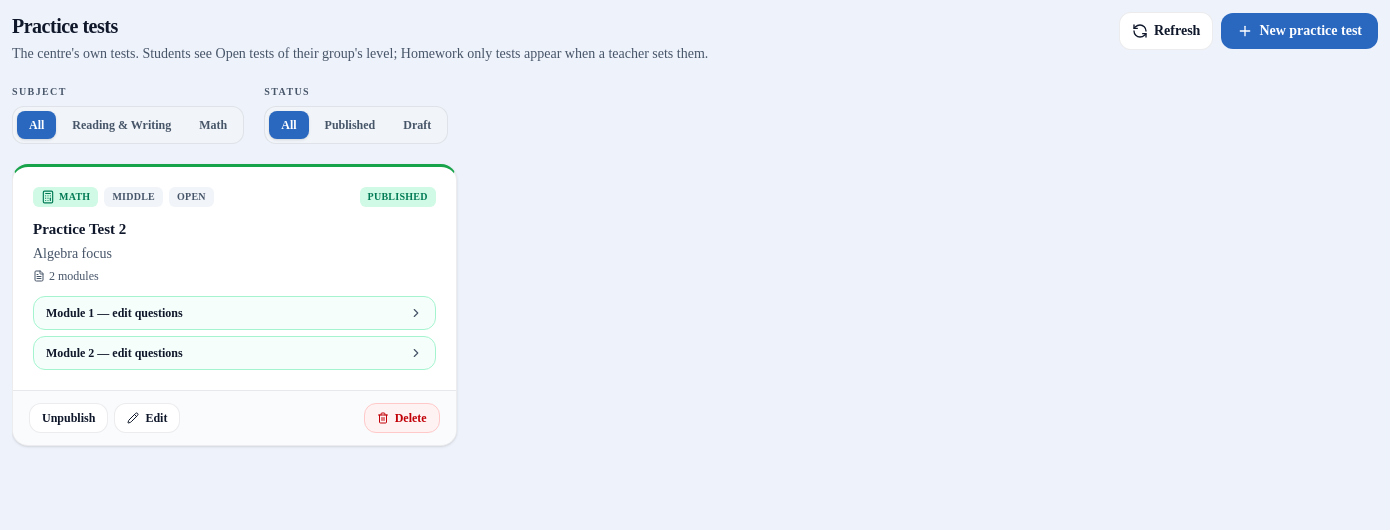
Test: /builder/practice-tests › shows the server's reason when a test with attempts cannot be deleted
Step 1. Click the button "Delete" → (402, 418), box 364,403 -> 440,433
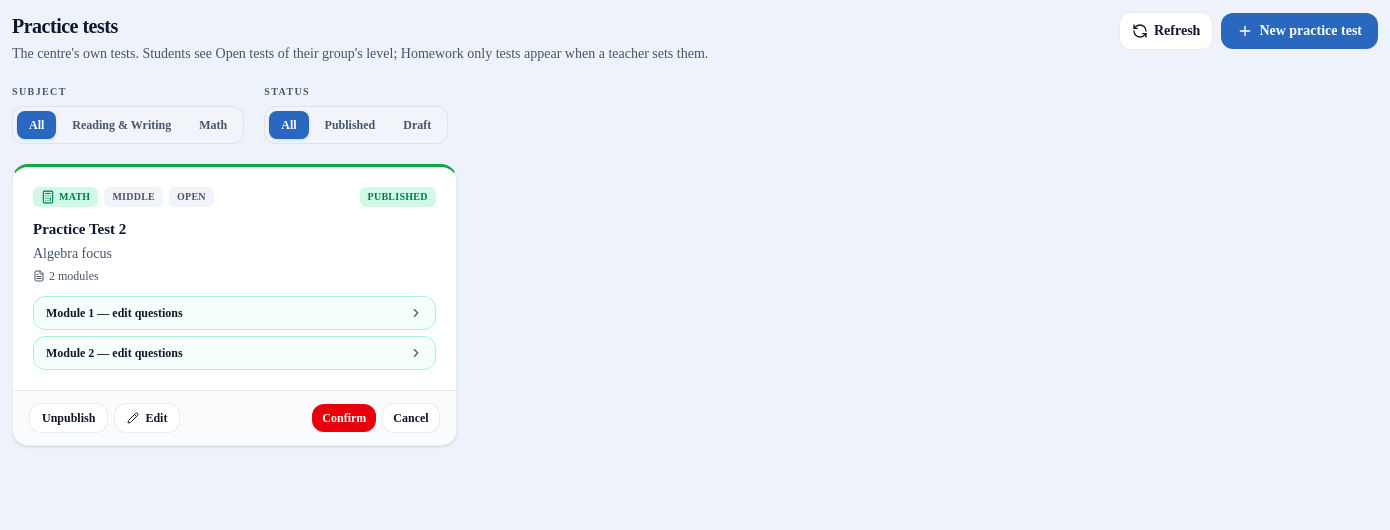
Step 2. Click the button "Confirm" → (344, 418), box 312,404 -> 376,432
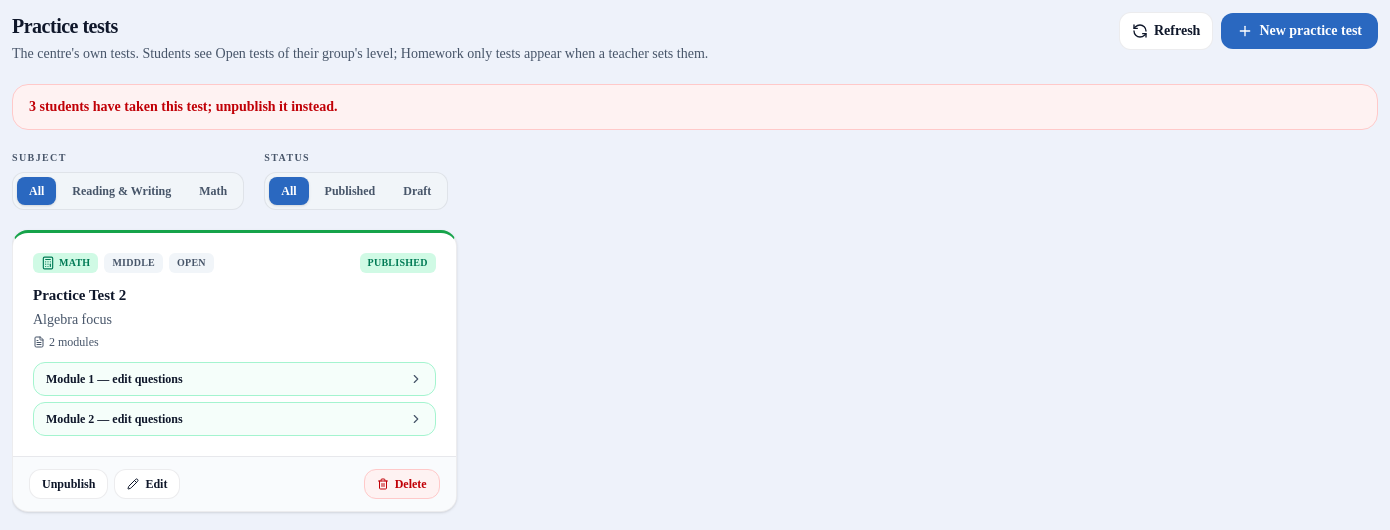
expect the text "3 students have taken this test; unpublish it instead." is shown: met, box 12,84 -> 1378,130
